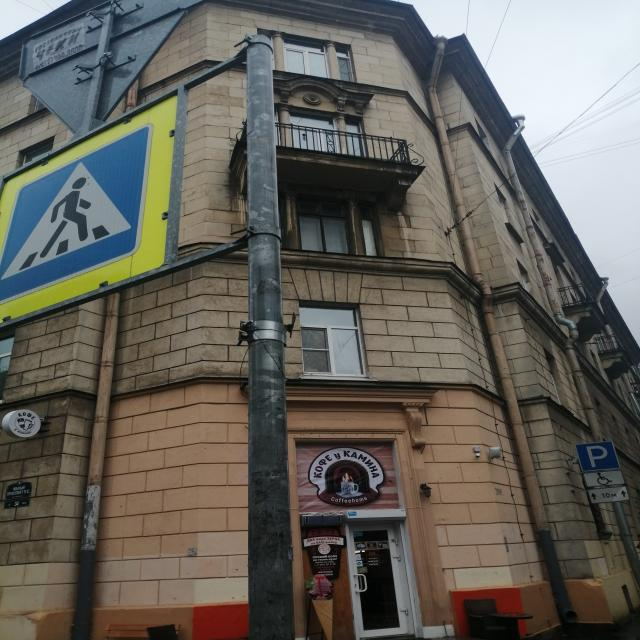road sign: (4, 96, 177, 322), (579, 443, 622, 472), (584, 472, 626, 489), (586, 489, 630, 505)
